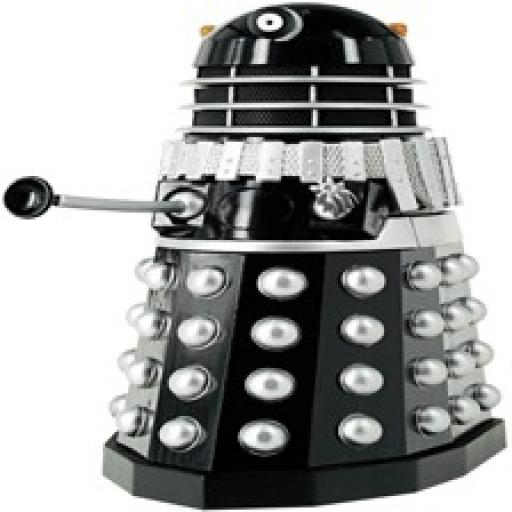dalek: (2, 0, 505, 510)
